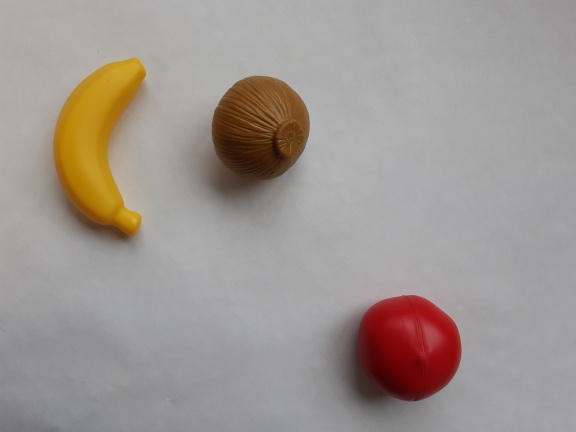banana: (47, 55, 159, 242)
onion: (207, 67, 317, 189)
tomato: (352, 291, 470, 405)
